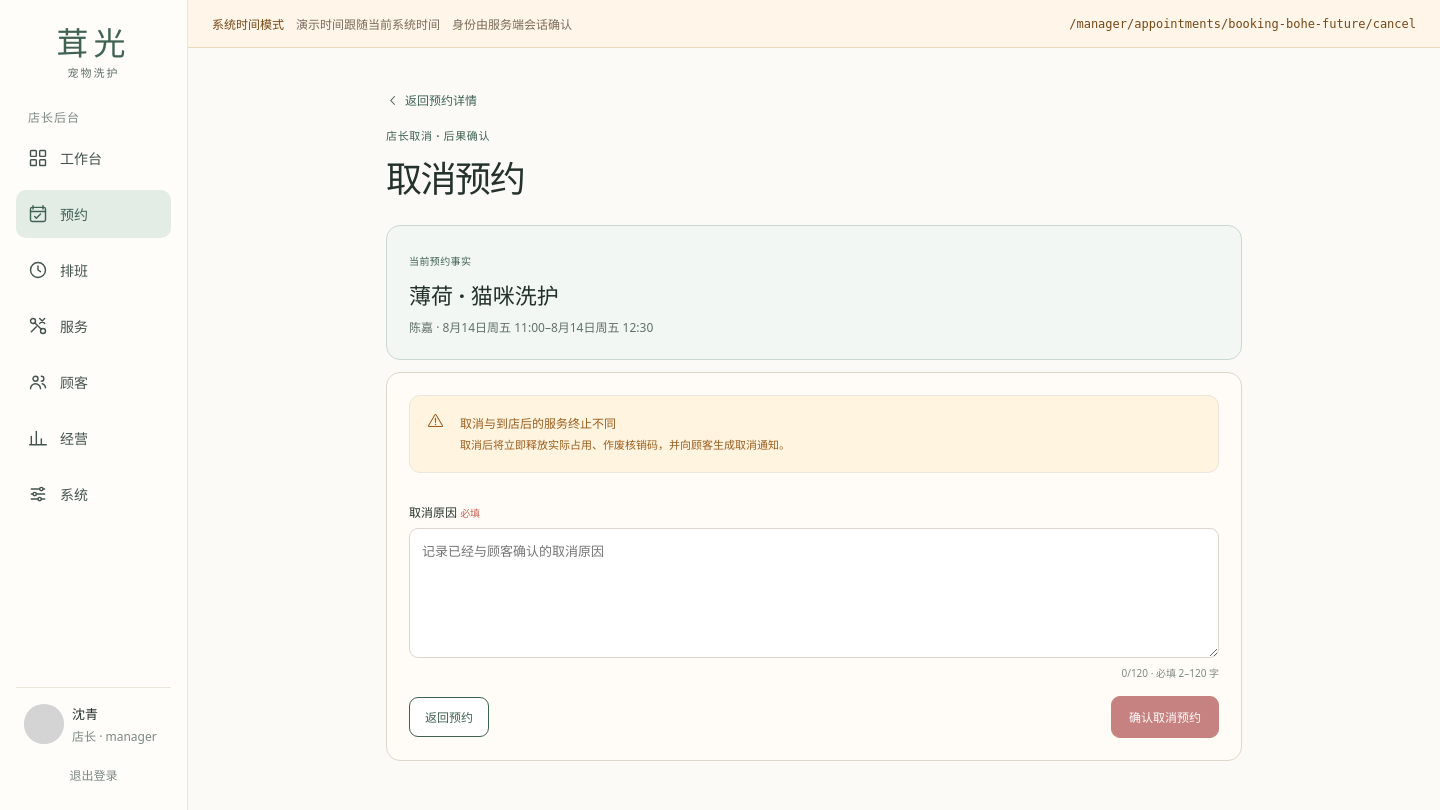
it: 店长改期与店长取消页面 › 并发状态变化时取消页重新读取当前预约并解释已到店事实
Expected: the heading "取消预约" is shown, [386,154,524,203]
Type "尝试覆盖并发状态" into the text box labelled "取消原因". click: coordinates (814, 593)
box: [409,528,1219,658]
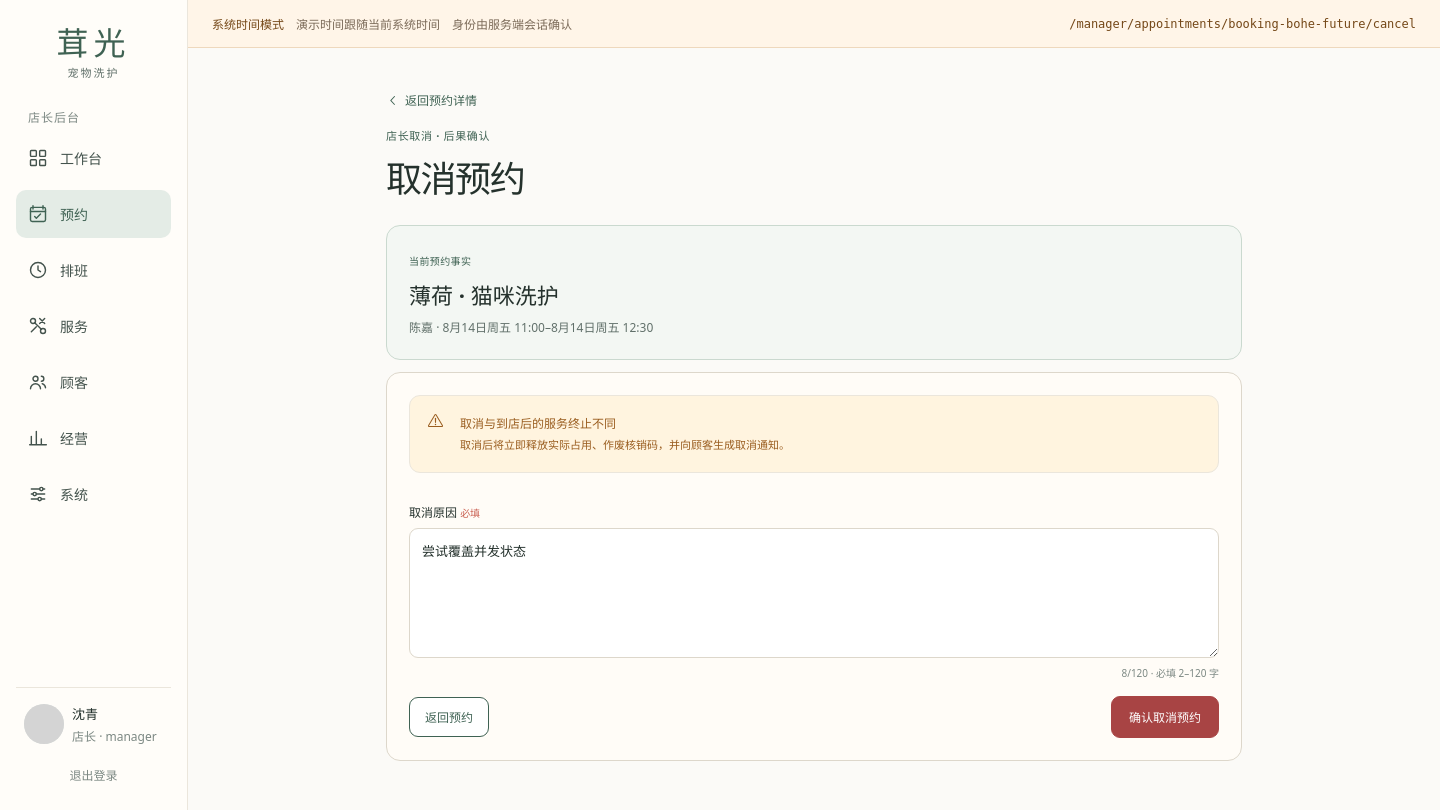
Click the button "确认取消预约". click: coordinates (1165, 717)
box: [1111,696,1219,738]
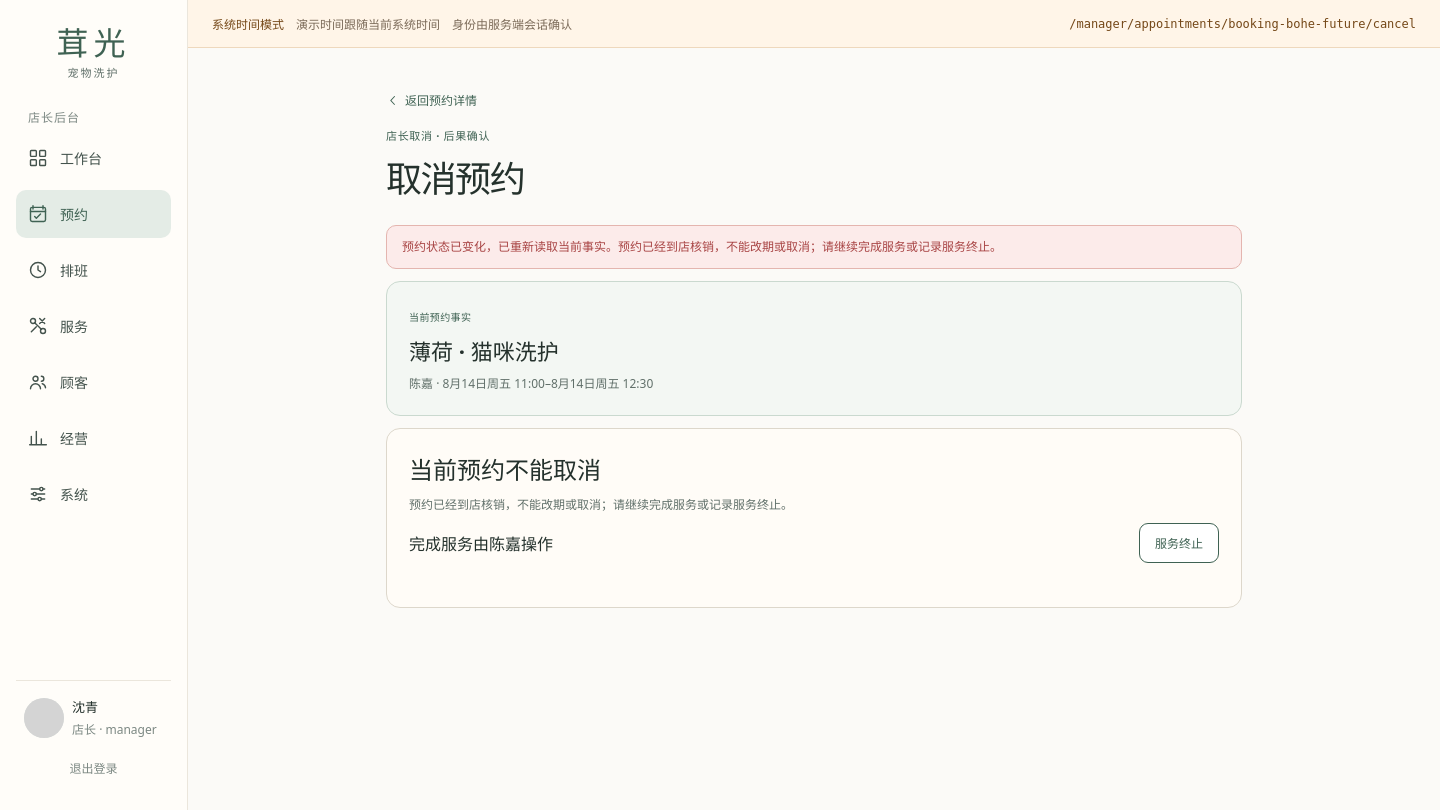
Expected: the message shows "预约状态已变化，已重新读取当前事实", [402,238,1002,255]
Expected: the heading "当前预约不能取消" is shown, [409,453,601,486]
Expected: the button "确认取消预约" is gone
